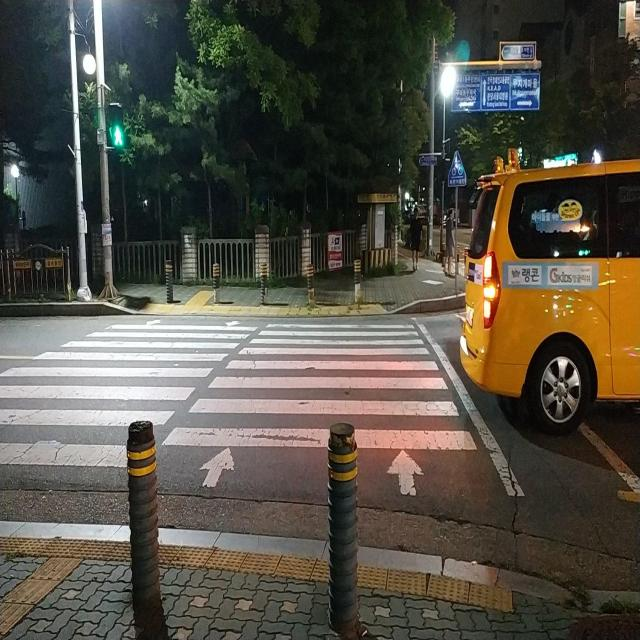초록불: (111, 107, 125, 150)
횡단보도: (0, 312, 478, 502)
